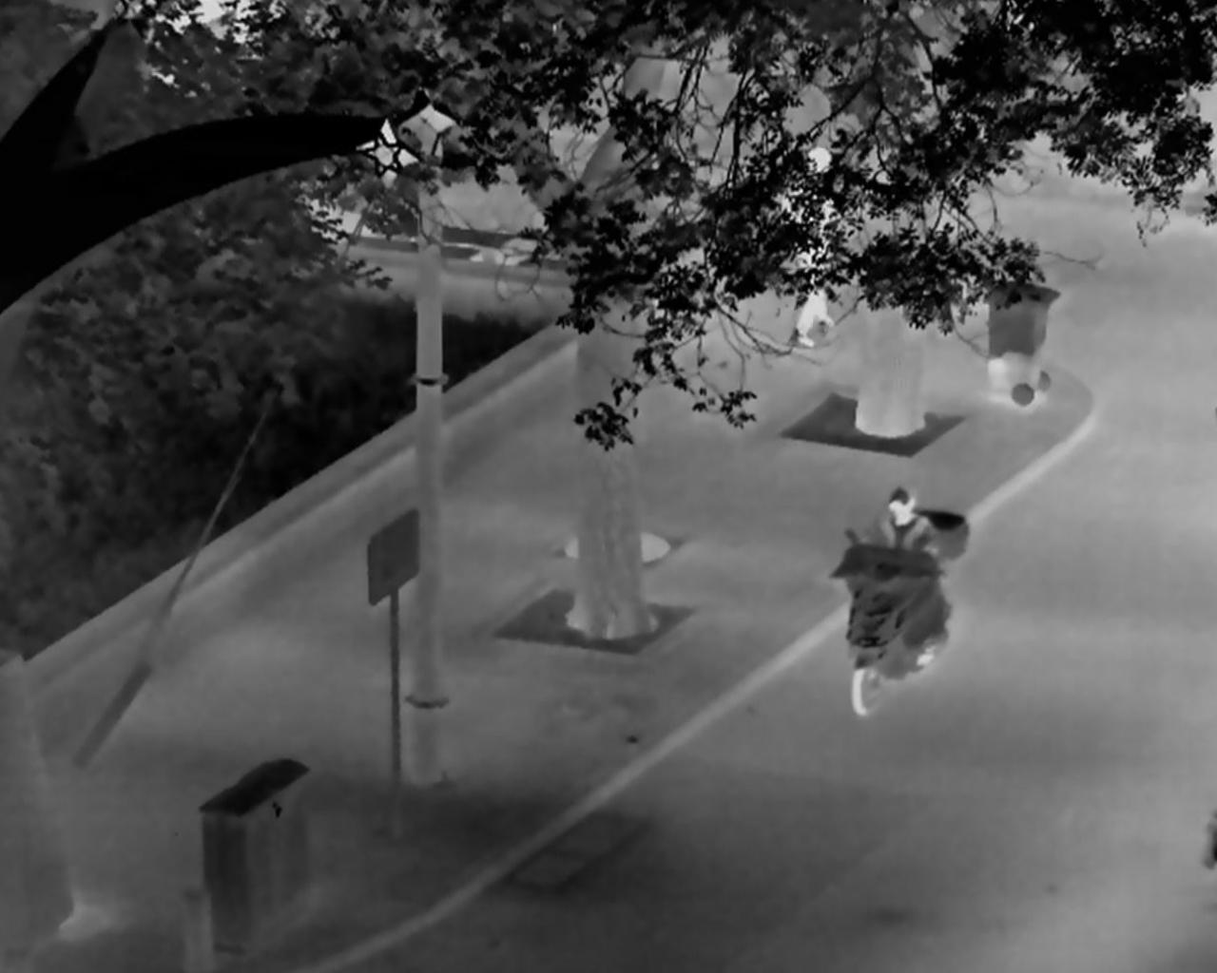person: (856, 485, 943, 667), (782, 147, 840, 347)
